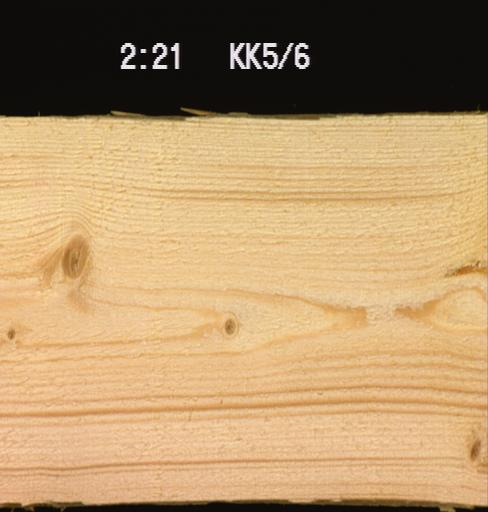small_knot: (3, 320, 18, 344)
sound_knot: (58, 231, 90, 282), (464, 430, 487, 462), (217, 315, 239, 336)
